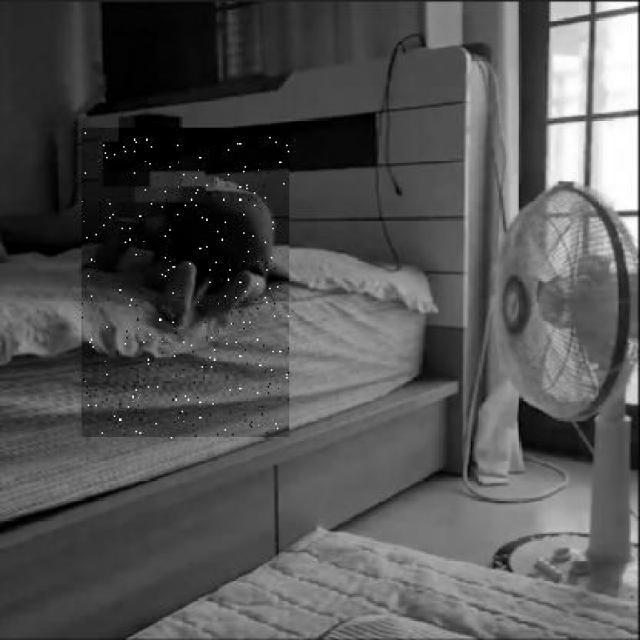child: (81, 129, 289, 440)
